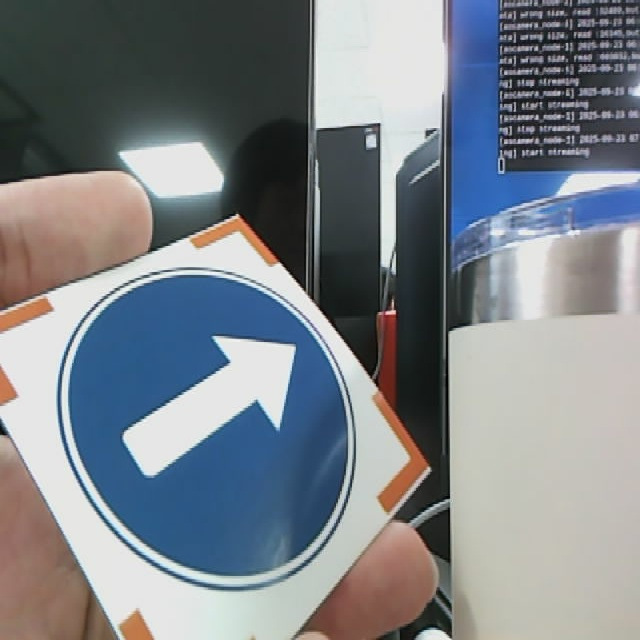strait: (1, 188, 431, 640)
